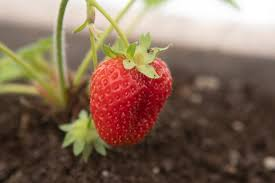ripe: (79, 42, 179, 149)
